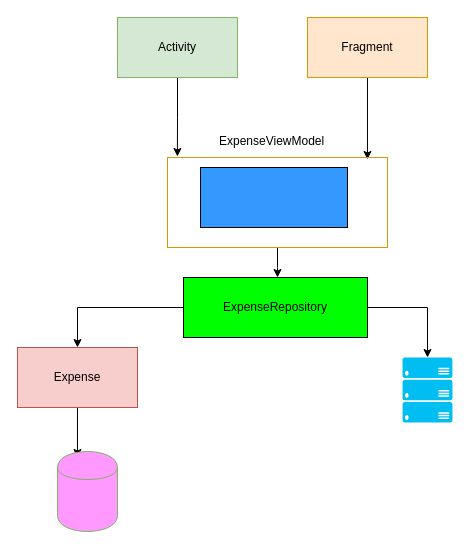
This 470x549 diagram has some shape labels left out. The centre of each missing label's shape, as x and y in pixels:
LiveData<Expense>: pixel 274 197
Room: pixel 87 491
